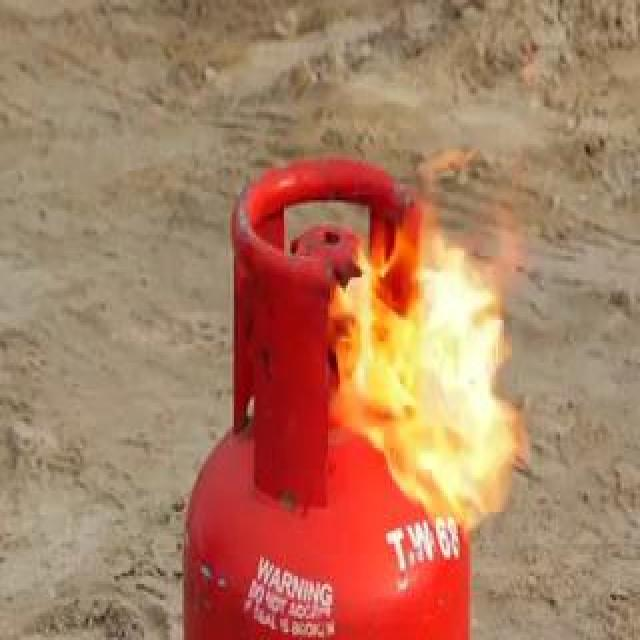Fire: (261, 68, 577, 505)
